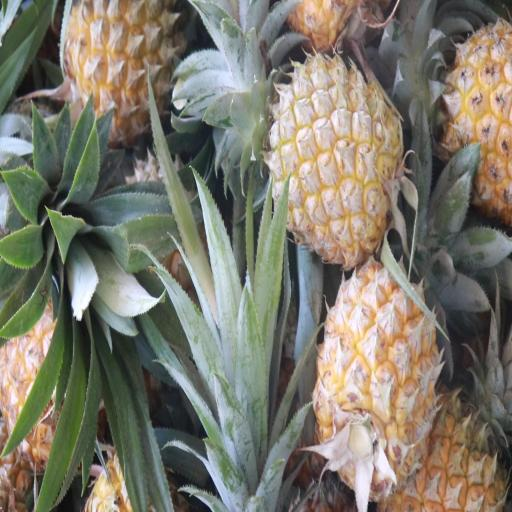------------------------------: (62, 0, 182, 142)
Pineapple - v8 v1: (267, 54, 403, 265), (318, 261, 436, 491), (370, 379, 512, 511), (428, 2, 512, 206)
